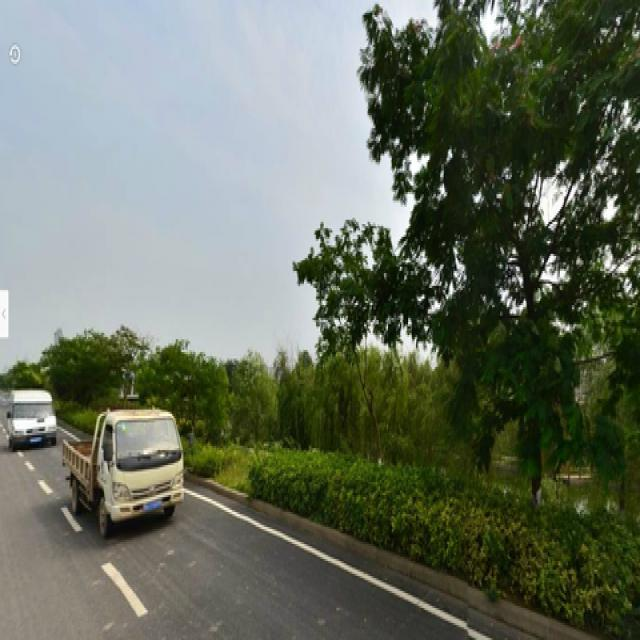albi: (389, 10, 635, 508)
